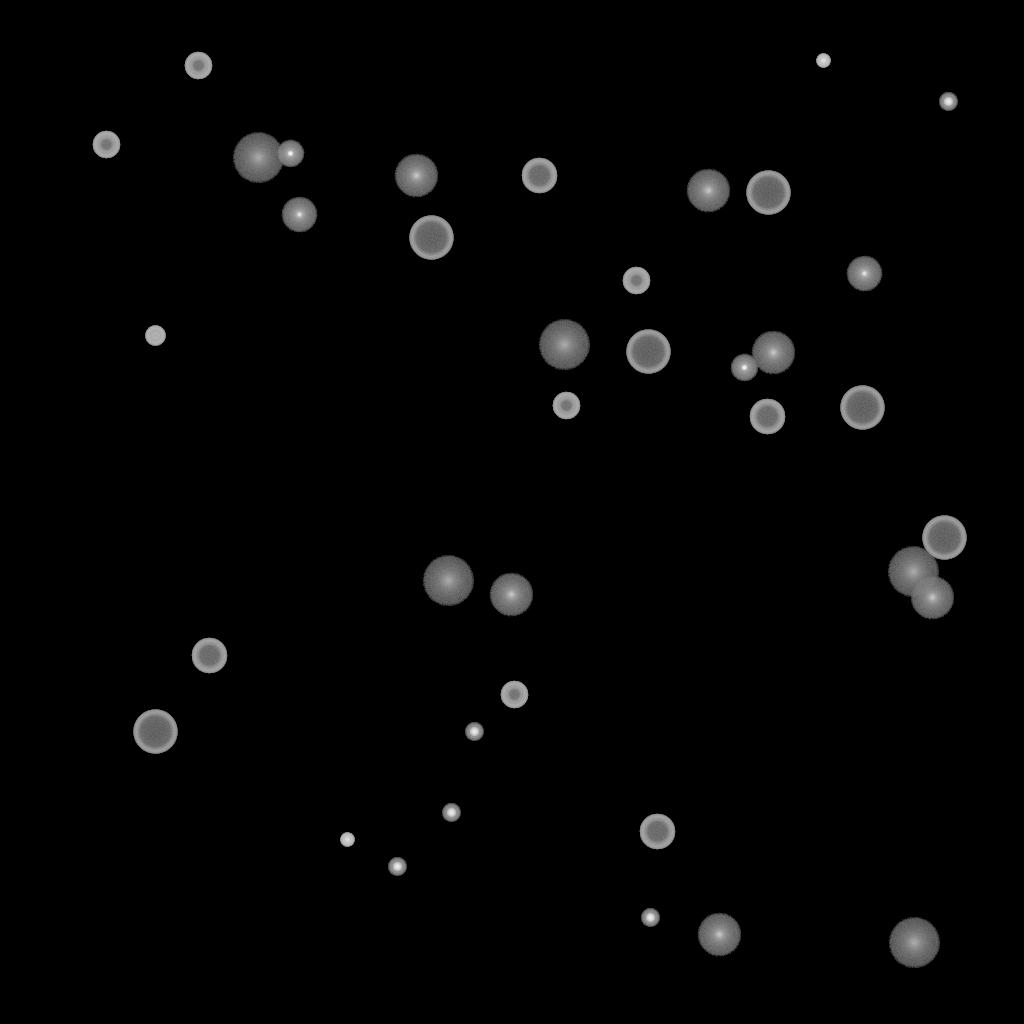depth:-10: (276, 140, 304, 168), (730, 354, 758, 382)
depth:-20: (442, 804, 460, 822), (465, 723, 483, 741), (939, 93, 957, 111), (641, 909, 659, 927), (388, 858, 406, 876)
depth:-30: (816, 54, 830, 68), (340, 833, 354, 847)
depth:-40: (145, 326, 165, 346)
depth:-50: (552, 392, 580, 420), (622, 267, 650, 295), (500, 681, 528, 709), (184, 52, 212, 80), (92, 131, 120, 159)
depth:-60: (191, 638, 227, 674), (749, 399, 785, 435), (639, 814, 675, 850), (521, 158, 557, 194)
depth:-70: (746, 171, 790, 215), (626, 330, 670, 374), (922, 516, 966, 560), (840, 386, 884, 430), (133, 710, 177, 754), (409, 216, 453, 260)
depth:0: (281, 197, 317, 233), (846, 256, 882, 292)
depth:10: (910, 576, 954, 620), (751, 331, 795, 375), (686, 169, 730, 213), (489, 573, 533, 617), (697, 913, 741, 957), (394, 154, 438, 198)
depth:20: (422, 556, 474, 606), (888, 918, 940, 968), (538, 320, 590, 370), (887, 547, 939, 597), (232, 133, 284, 183)
